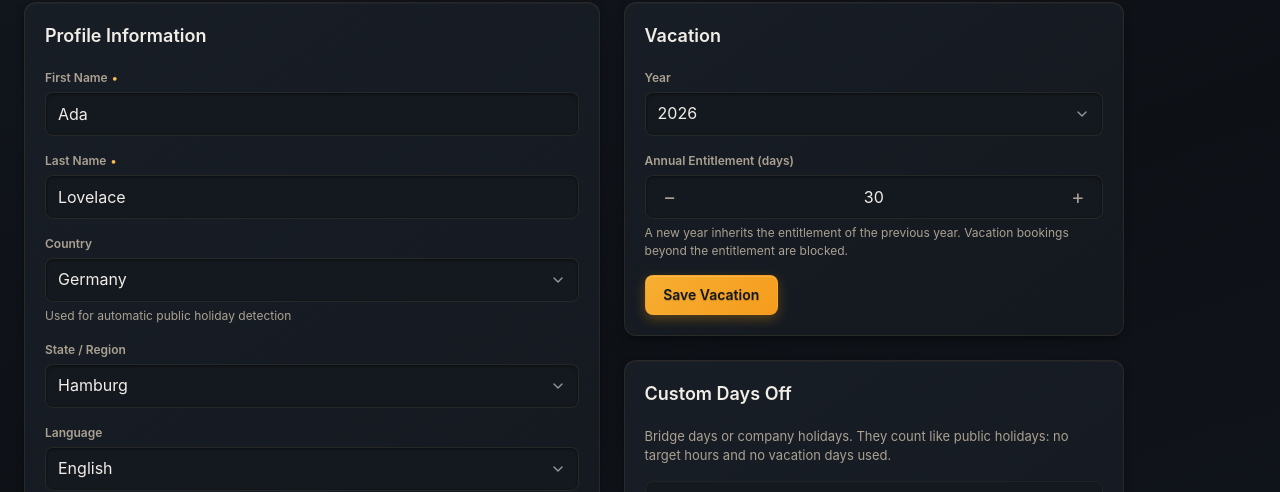
SettingsPage – profile › requires first and last name
Step 1. Clear the field labelled "First Name•" → (312, 114), box 58,93 -> 566,135
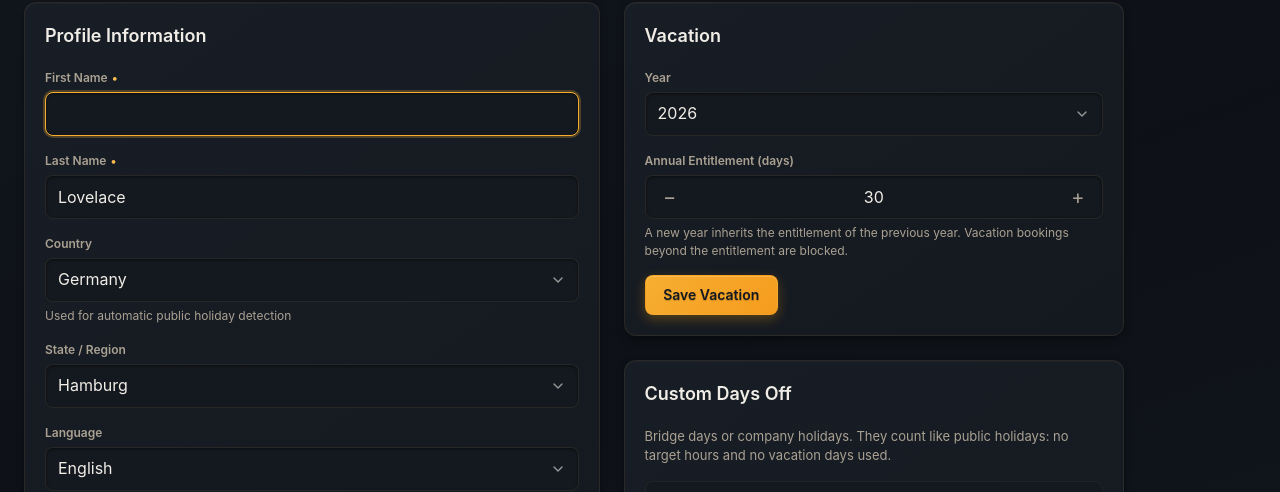
Step 2. Clear the field labelled "Last Name•" → (312, 197), box 58,176 -> 566,218
(page scrolled)
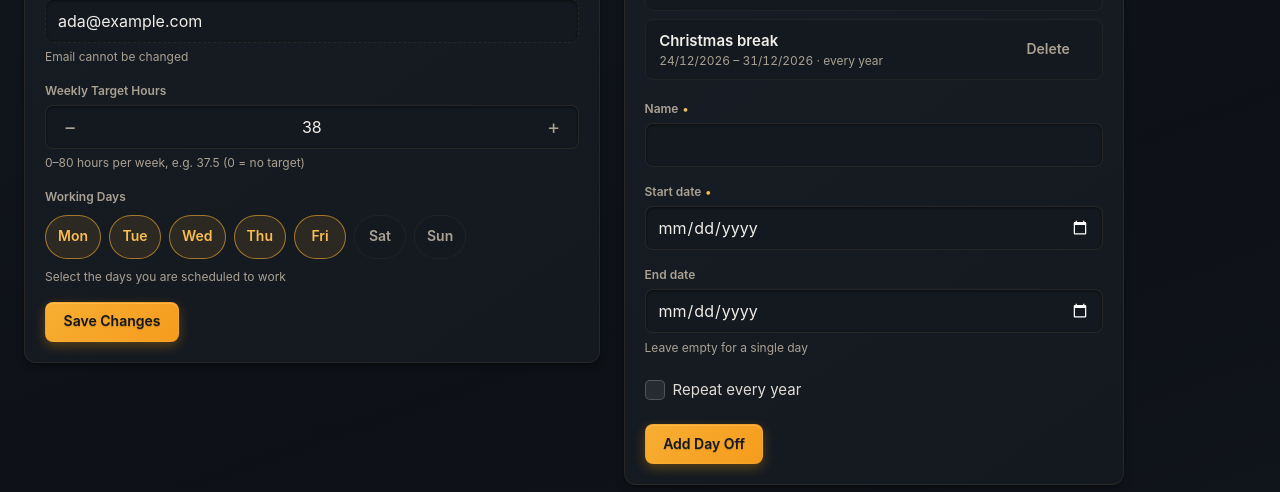
Step 3. Click the button "Save Changes" → (112, 322), box 45,302 -> 179,342
(page scrolled)
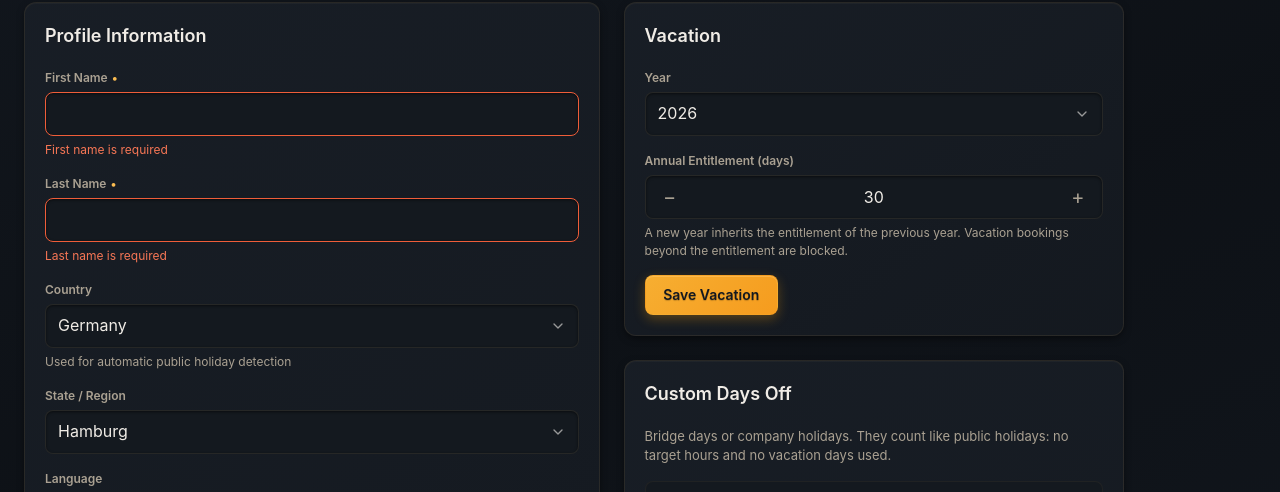
Result: the text "First name is required" is shown at 45,142 -> 168,157
Result: the text "Last name is required" is shown at 45,248 -> 167,263
